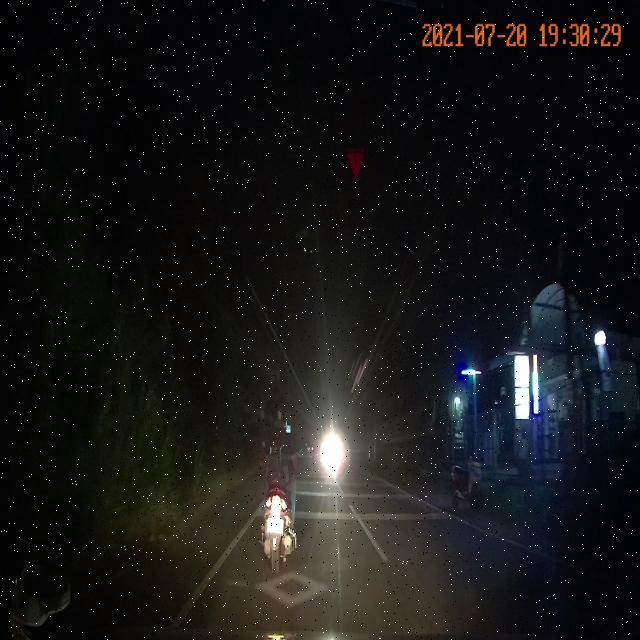diamond: (182, 565, 429, 612)
